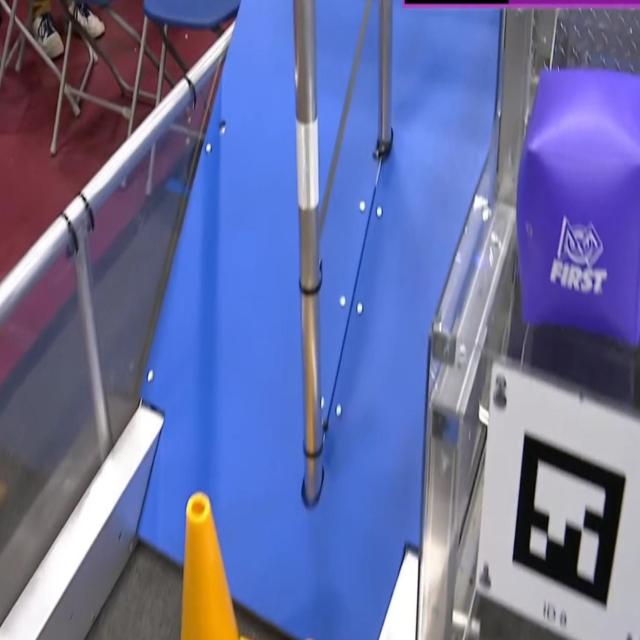frc_cone: (176, 486, 238, 640)
frc_cube: (513, 71, 640, 351)
